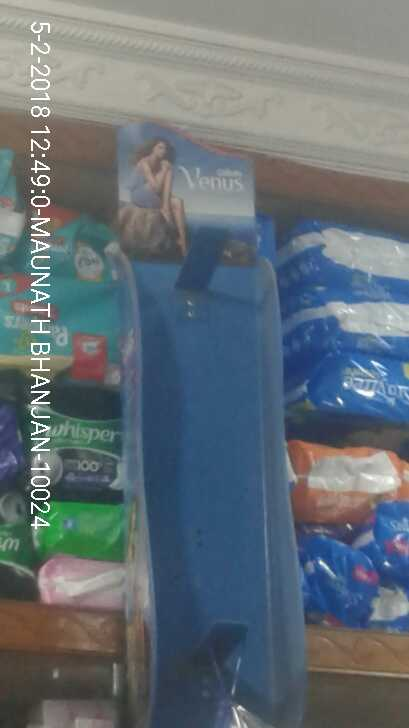pharmacy: (281, 215, 409, 300), (278, 354, 409, 420), (281, 290, 409, 355)
